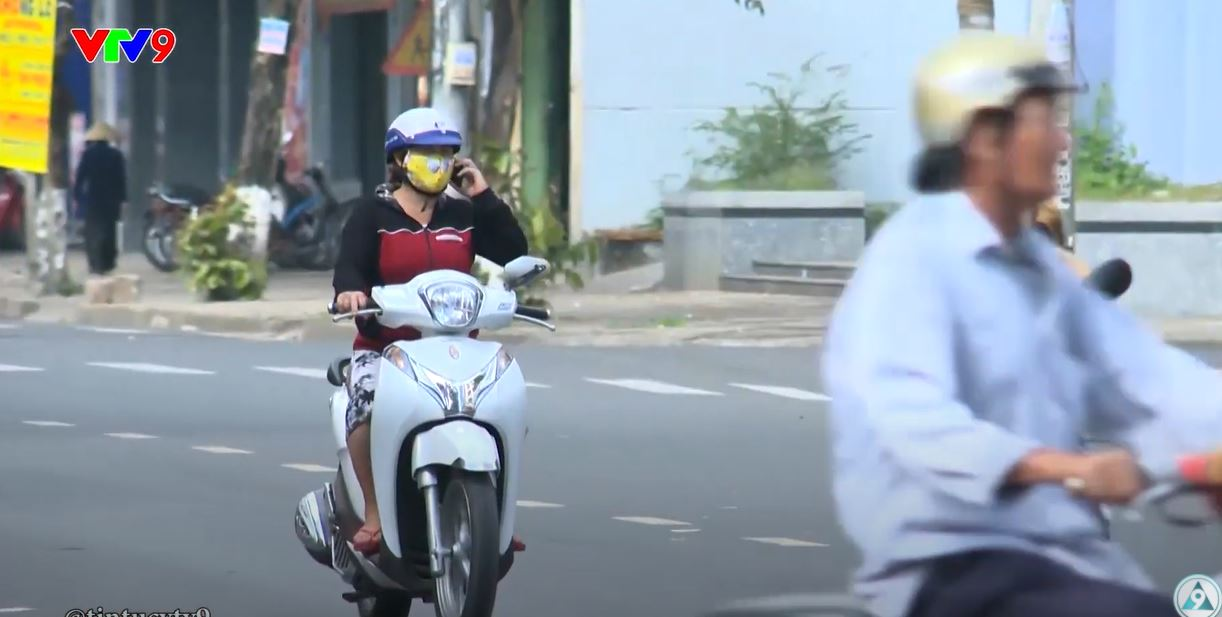dieu khien xe may: (362, 102, 527, 486)
su dung dien thoai: (387, 104, 491, 225)
